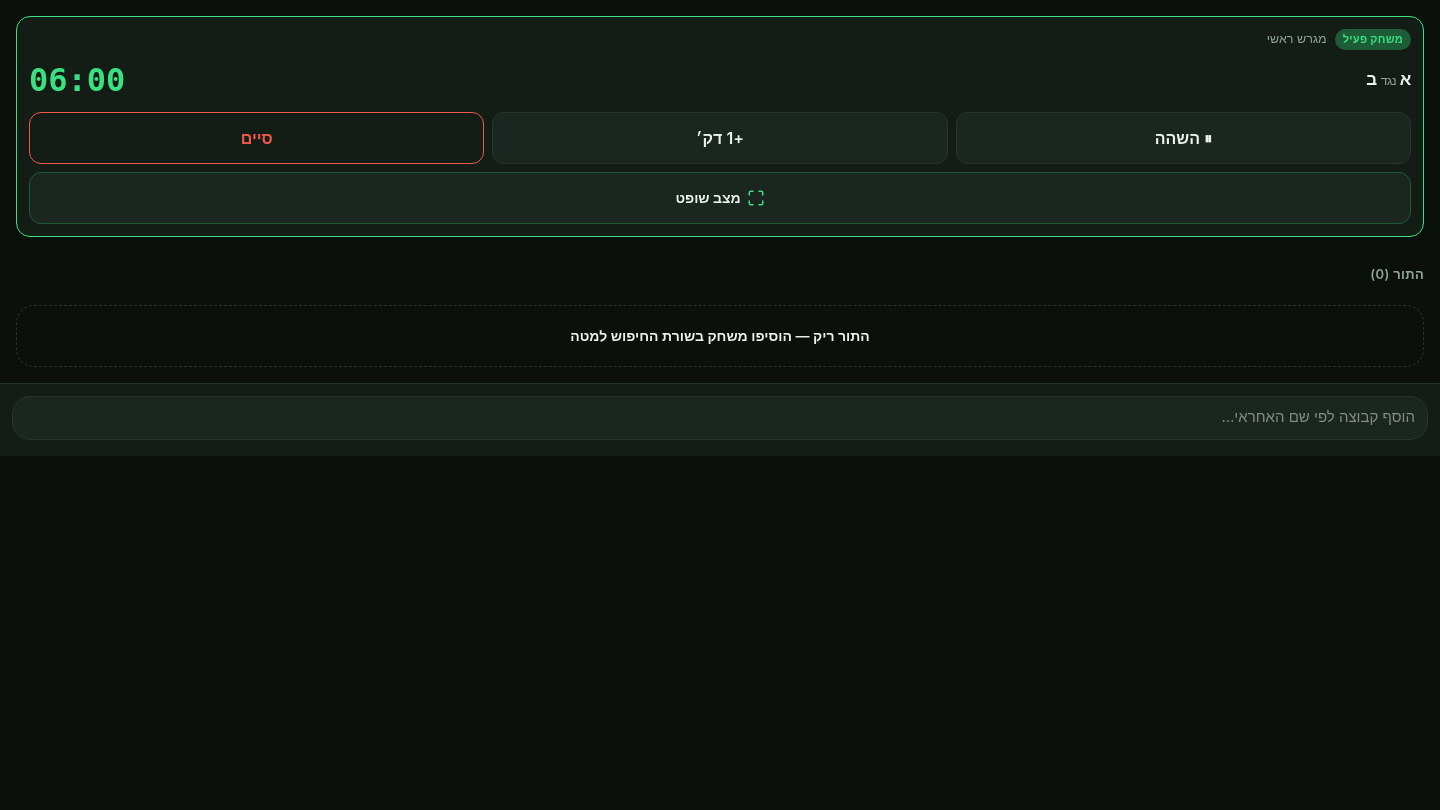
Test: MainScreen — active session, field live › requires confirmation after a referee holds finish, then keeps the match active when cancelled
Click the button "מצב שופט".
click(720, 198)  # box [29,172,1411,224]
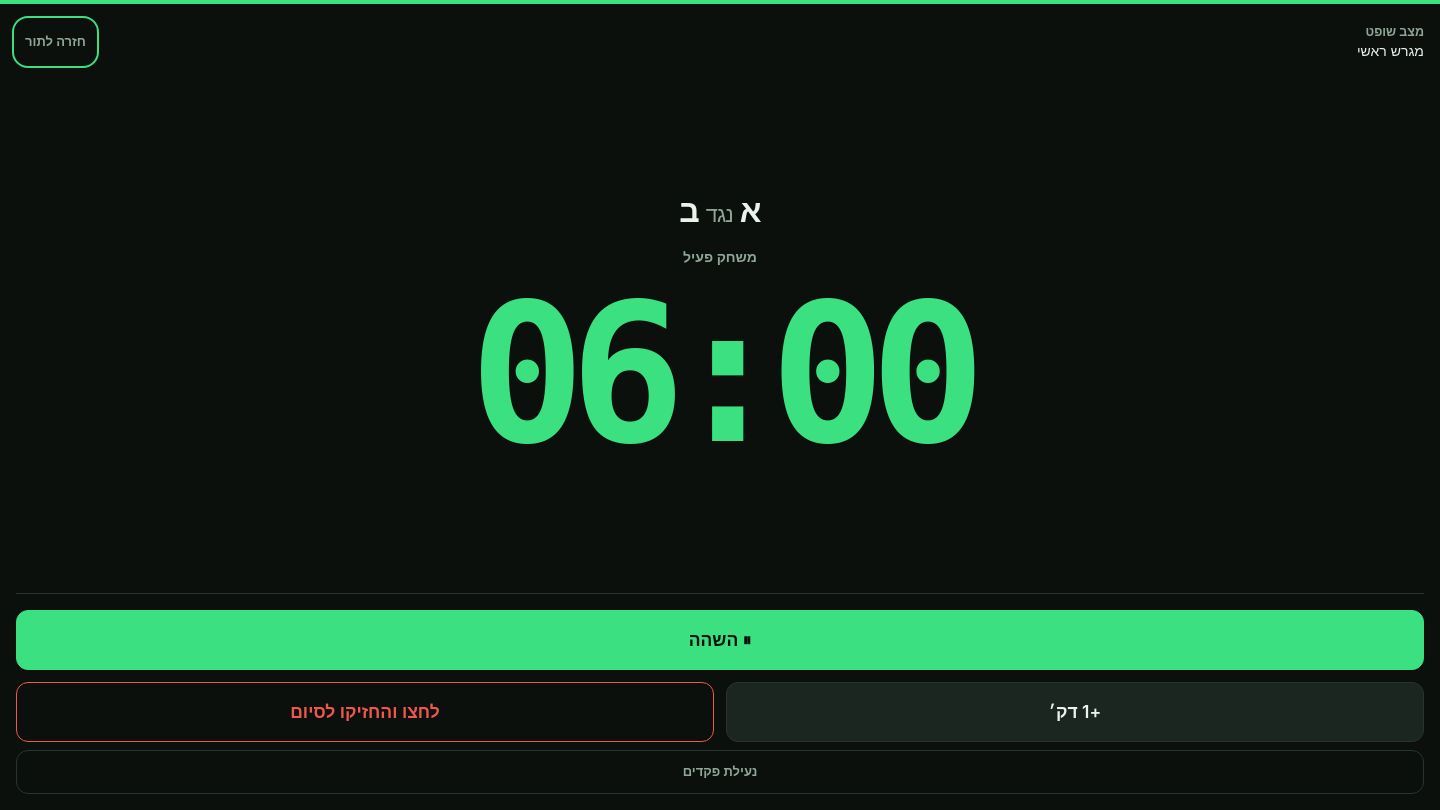
Press the mouse on the button "לחצו והחזיקו לסיום" at (365, 712), box [16,682,714,742]
Wait 1200 ms
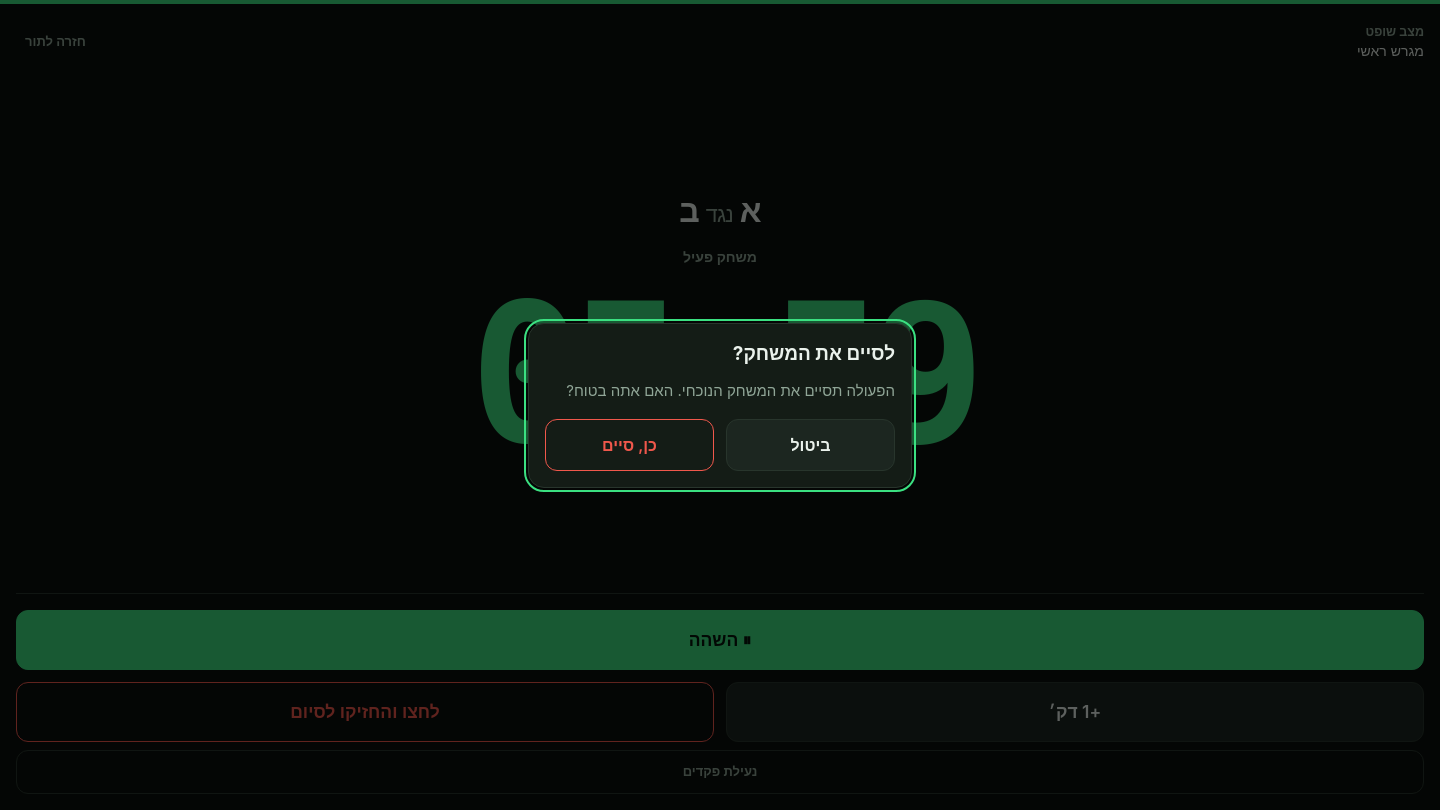
Expected: the dialog "לסיים את המשחק?" is shown, [528,322,912,488]
Click the button "ביטול".
click(810, 444)  # box [726,418,895,470]
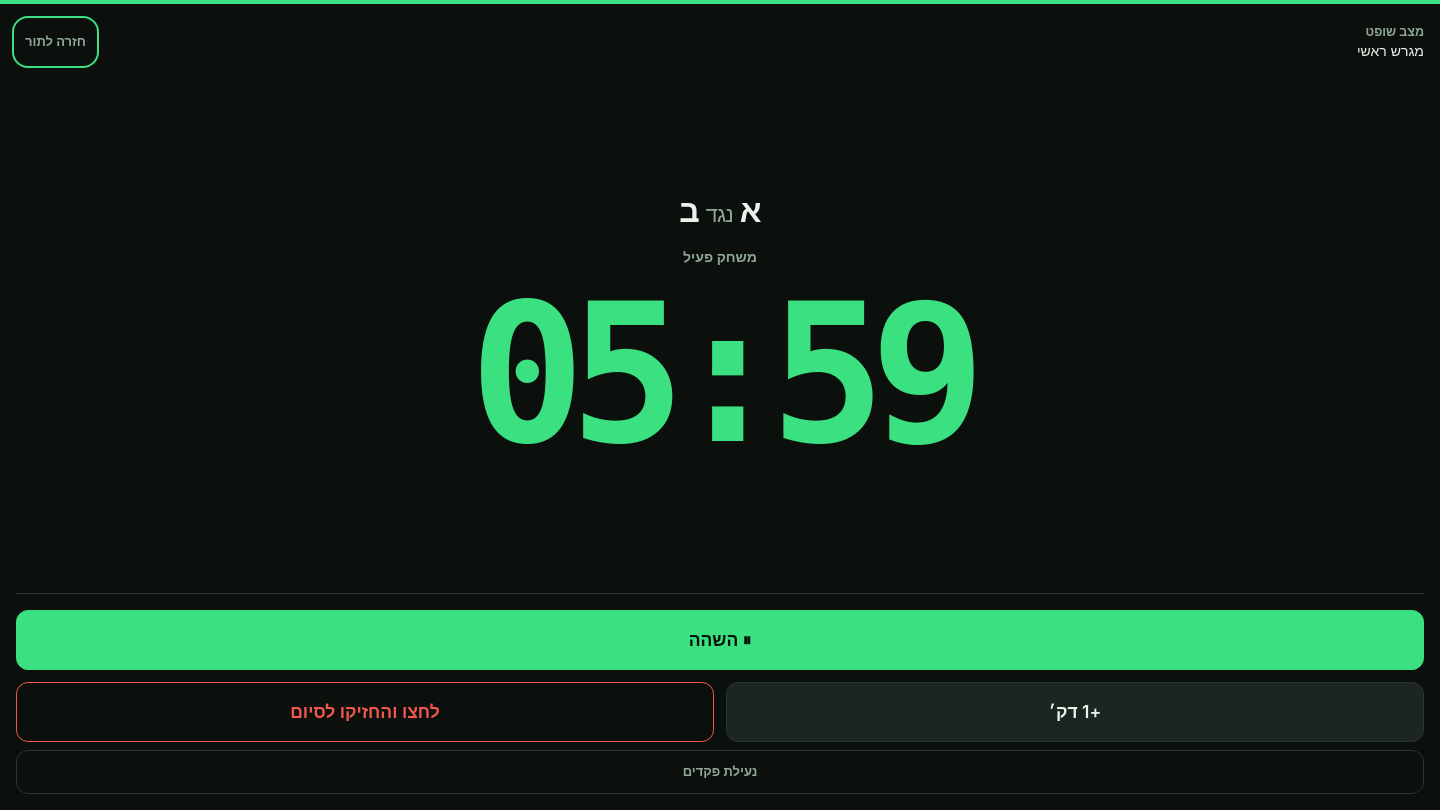
Expected: the text named "זמן נותר במשחק" is shown, [469,278,971,470]
Expected: the heading "לסיים את המשחק?" is gone
